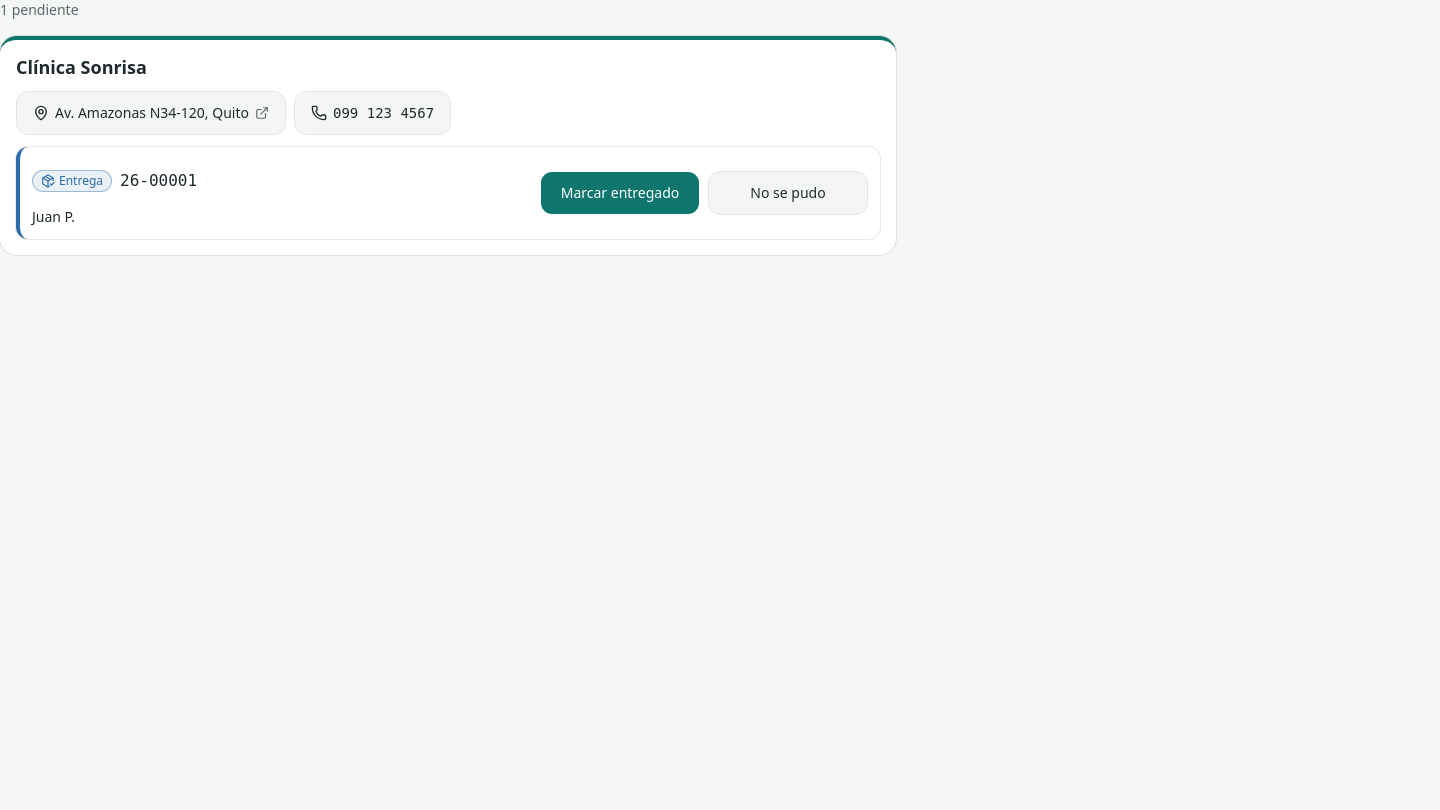
DeliveriesDay › sin red, una acción en pausa no se repite › con red, mientras se envía, bloquea la tarjeta sin decir que espera la señal
This screenshot has width=1440, height=810.
Click the button "No se pudo" at (788, 192), box [708,170,868,214]
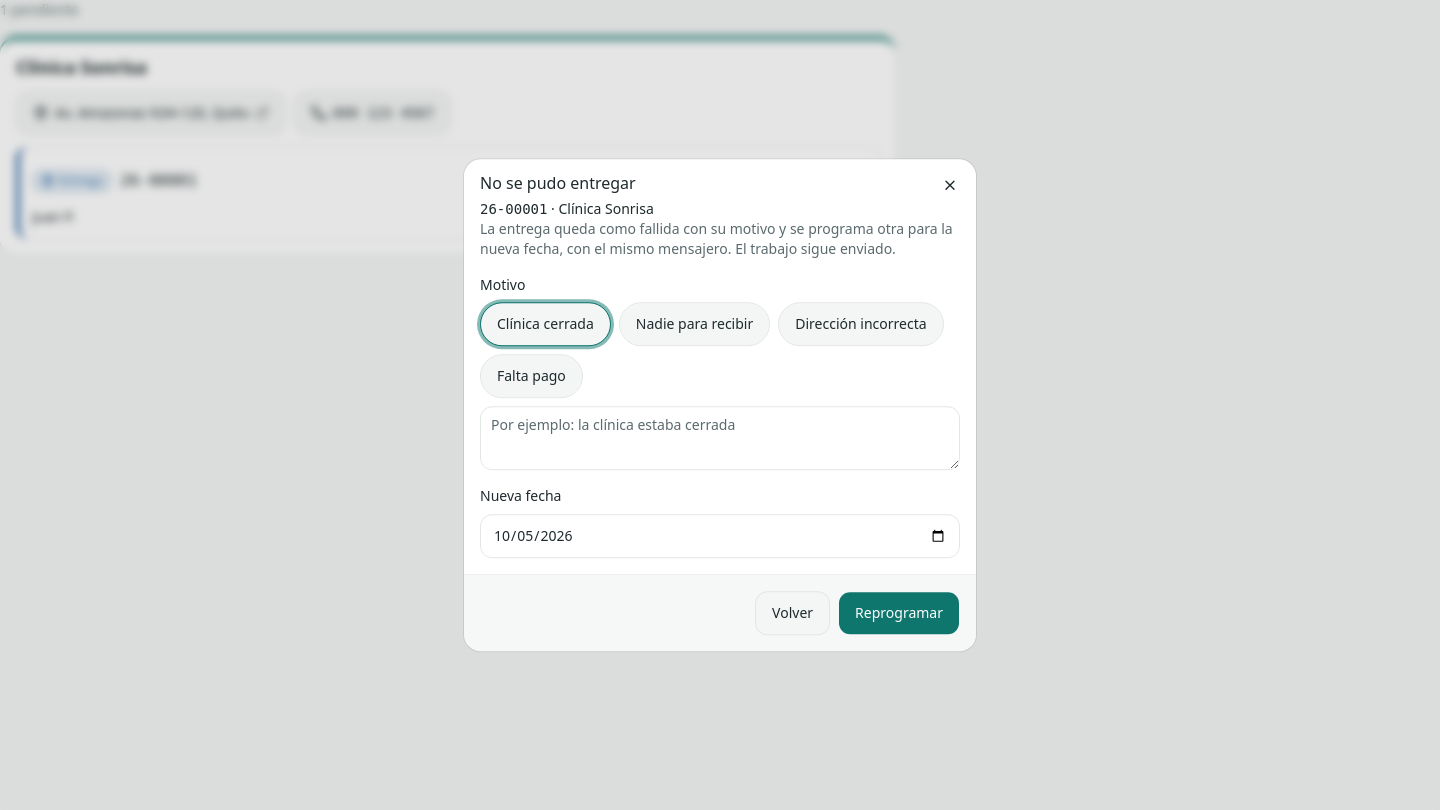
Type "Clínica cerrada" into the text box labelled "Motivo" at (720, 438), box [480,406,960,470]
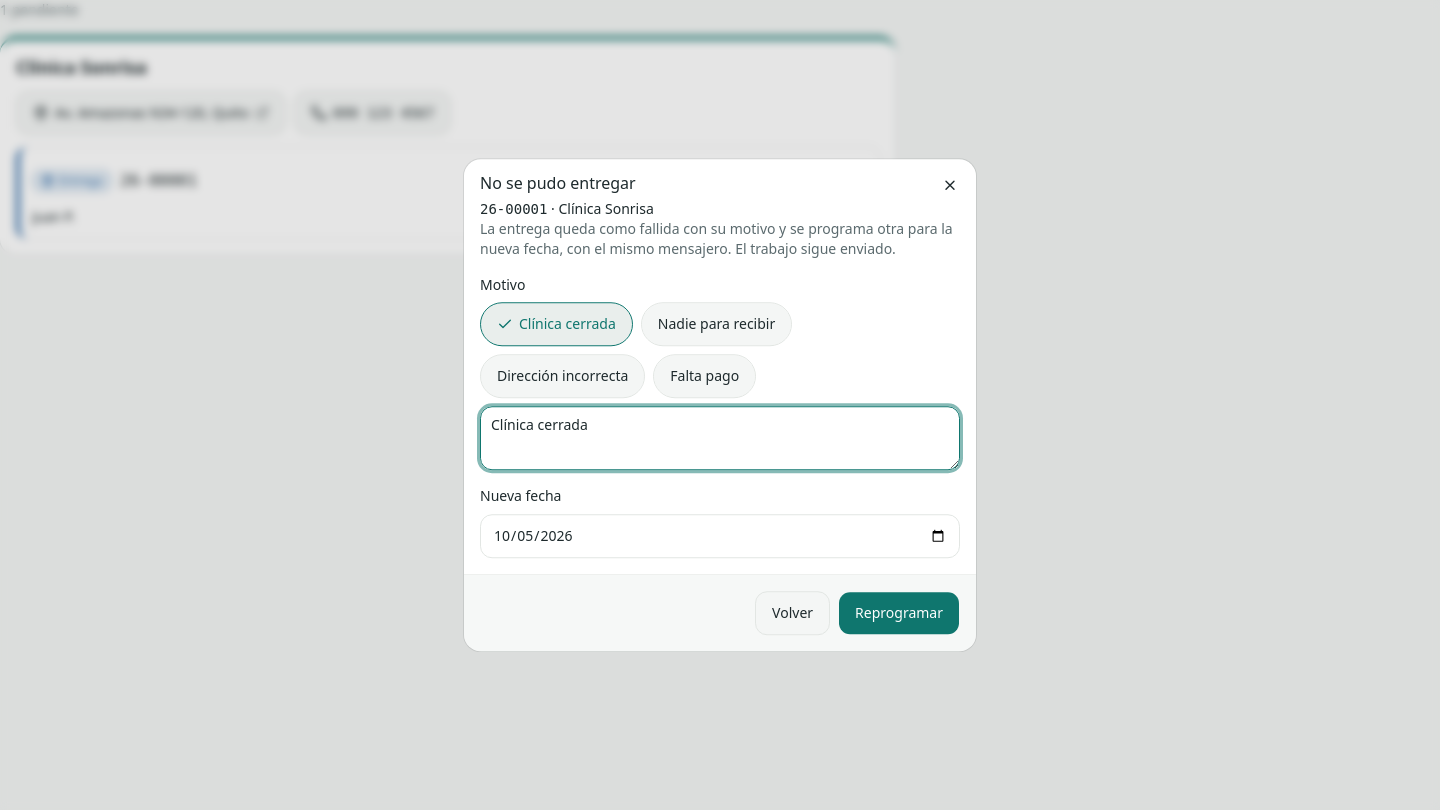
Click the button "Reprogramar" at (899, 613), box [838,591,960,635]
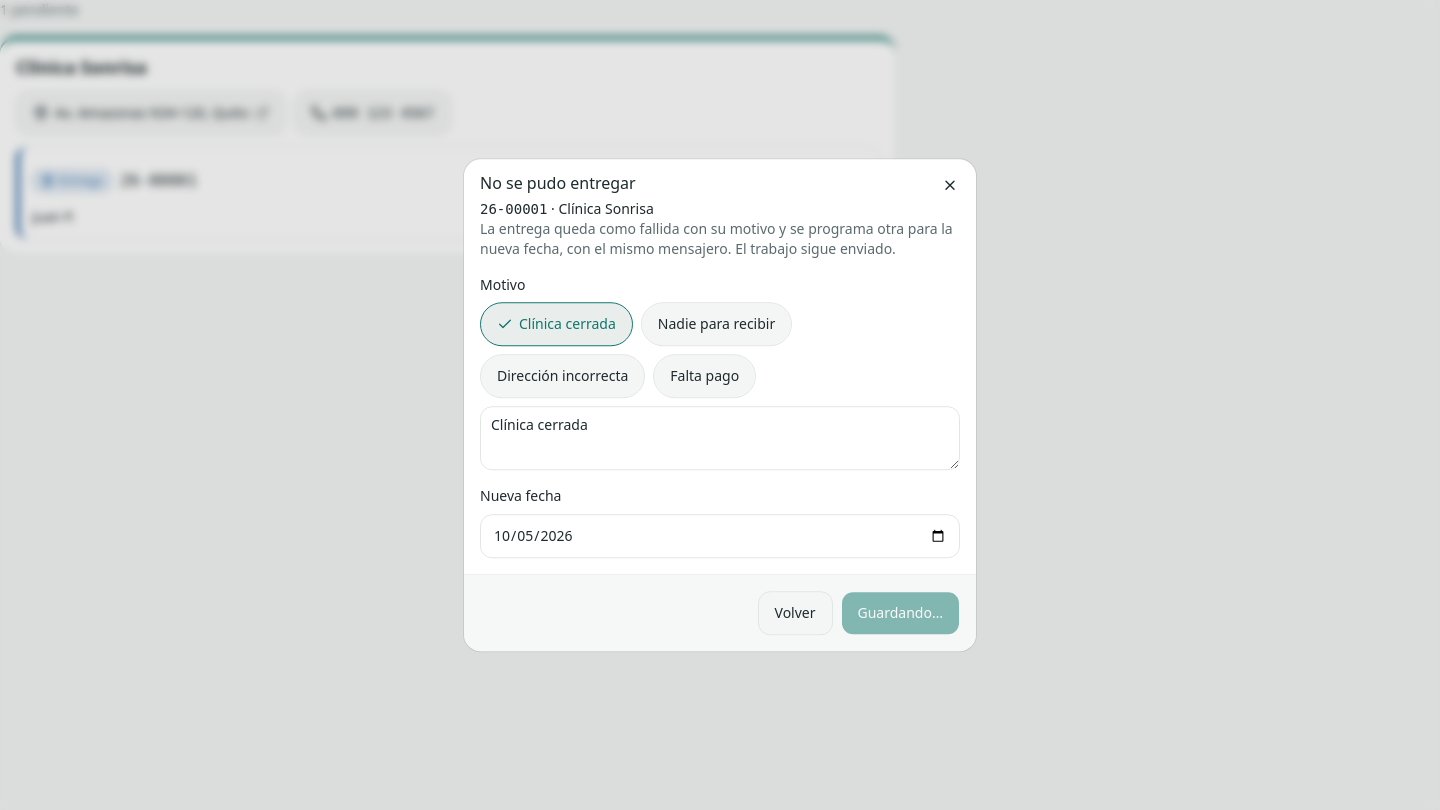
Click the button "Volver" at (795, 613), box [758,591,832,635]
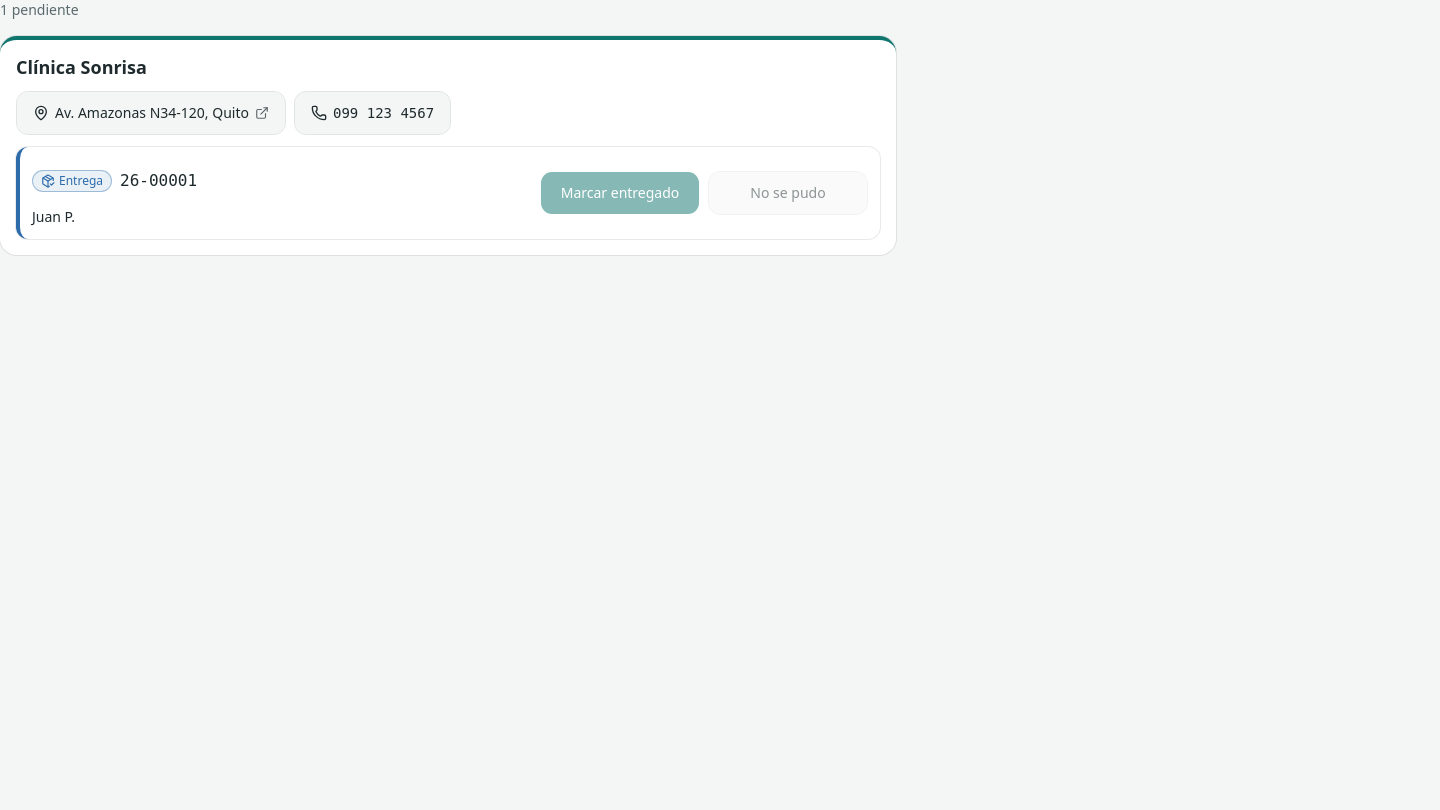
Expected: the button "No se pudo" is disabled, [708,170,868,214]
Expected: the dialog is gone
